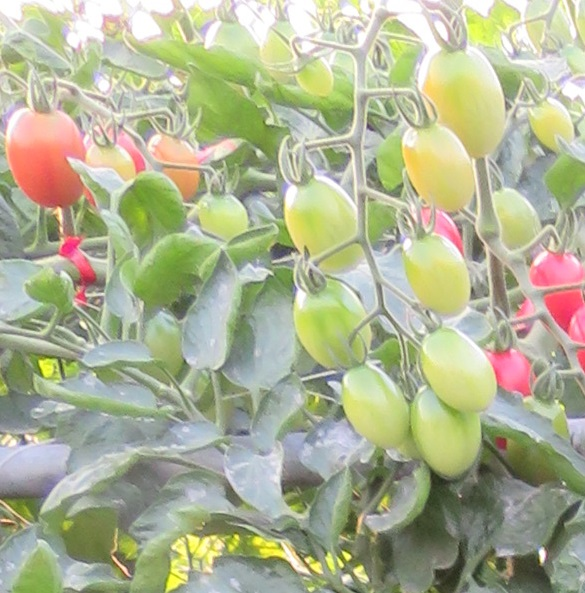green: (420, 42, 508, 160), (282, 176, 364, 275), (286, 279, 371, 371), (418, 325, 499, 415), (401, 121, 476, 214), (399, 231, 476, 318), (410, 398, 488, 478), (339, 365, 411, 450), (491, 186, 541, 250), (524, 94, 577, 153), (202, 19, 261, 65), (198, 191, 249, 241), (261, 20, 298, 87), (296, 58, 337, 97)
orange: (3, 105, 87, 209), (147, 131, 200, 201)
red: (531, 248, 582, 328), (484, 344, 538, 398)
